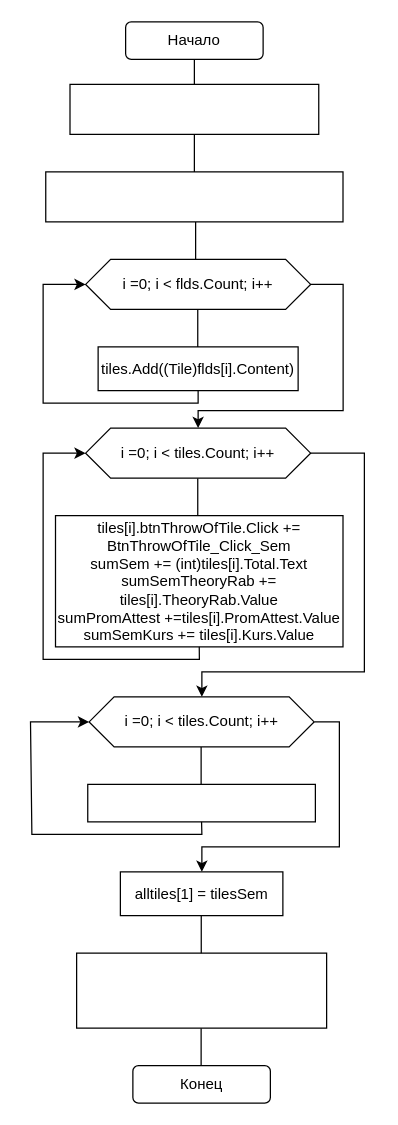
Some shapes in this 398 by 1125 pixel diagram are drawn without their labels. The centre of each missing label's shape, as x and y in pixels:
"flds.AddRange(itms.OfType<ListBoxItem>() tiles = new List<Tile>()" goes at (x=193, y=196).
"itms = e.NewItems flds = new List<ListBoxItem>()" goes at (x=194, y=108).
"labelSem.Content = sumSem labelKurs = sumSemsKurs labelAll = sumSemKurs" goes at (x=201, y=990).
"tilesSem.Add(new TileSer( ));" goes at (x=200, y=802).
